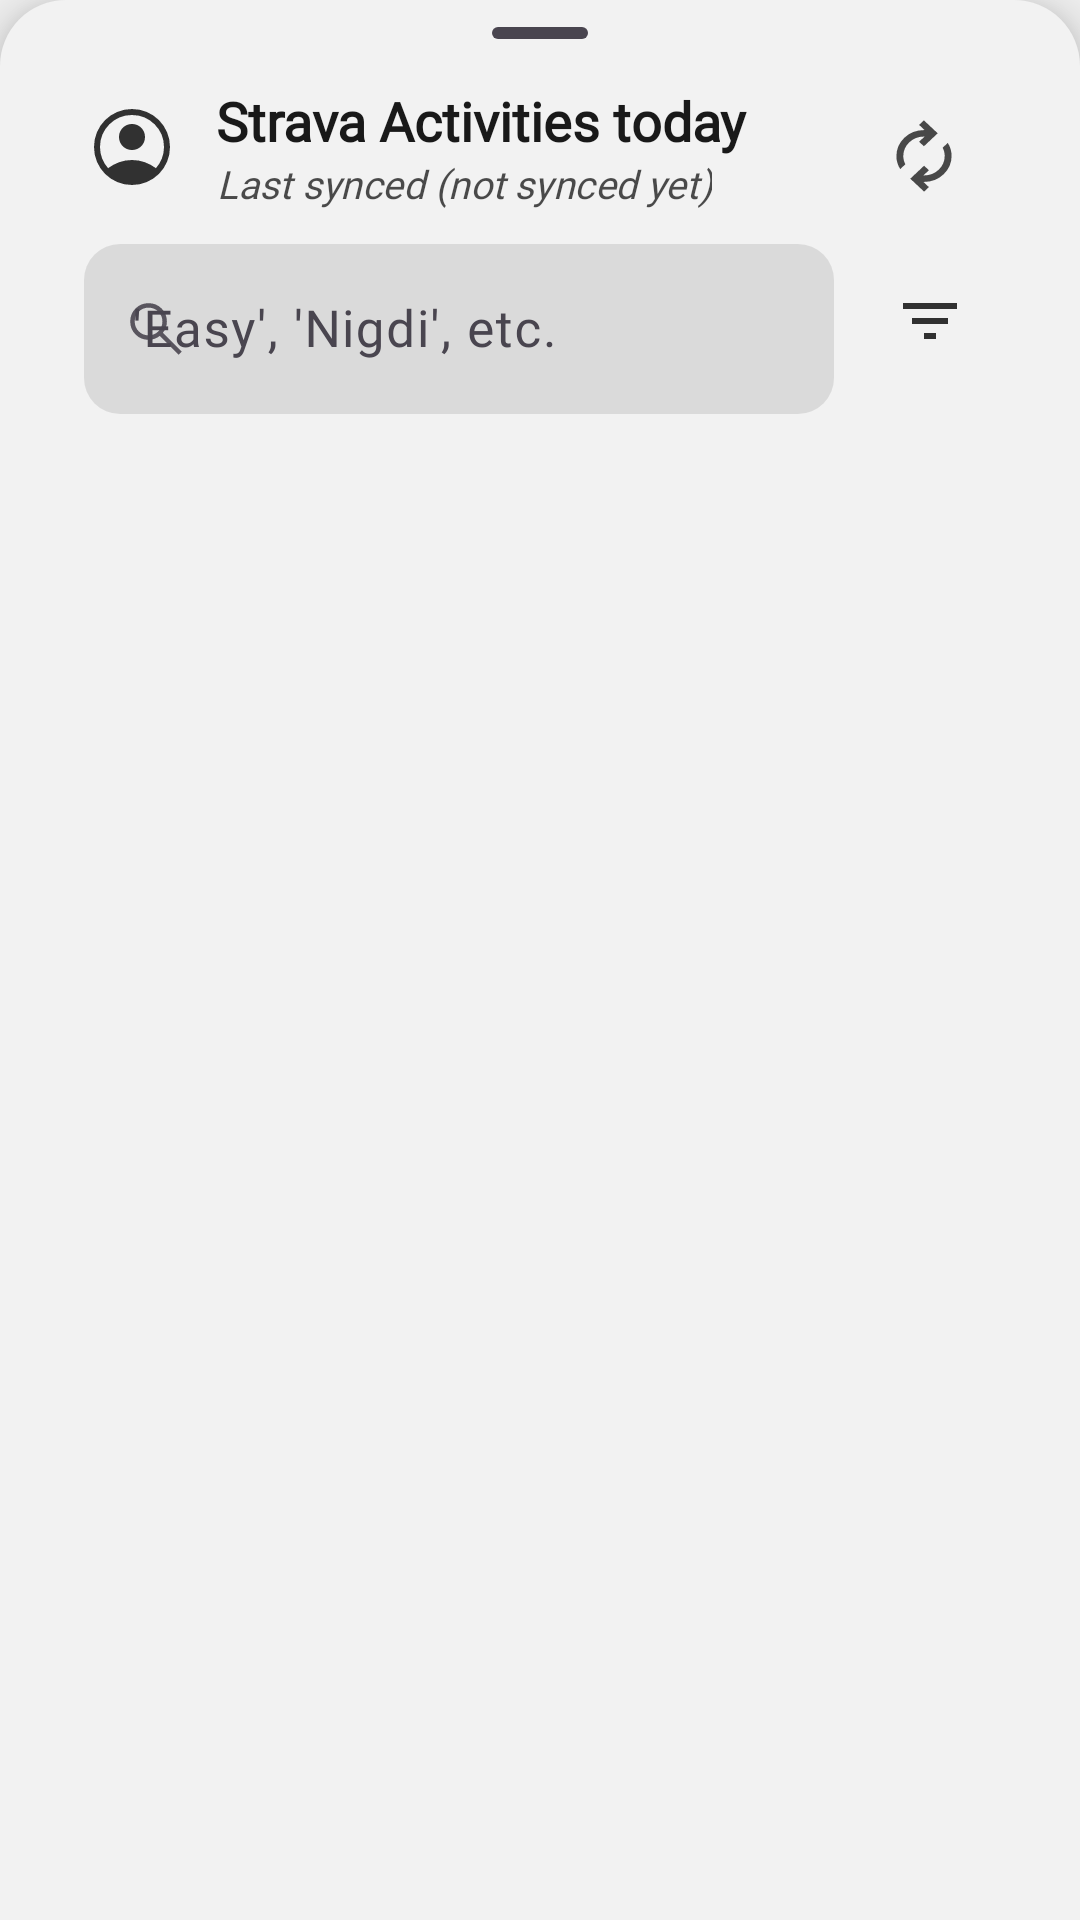

Screen size 1080 × 1920. Icon name, then its box in pixels as [x1=x1, y1=y1, x2=x2, y2=y2]:
autorenew: [x1=896, y1=120, x2=952, y2=192]
filter list: [x1=903, y1=303, x2=957, y2=339]
Open Strava Profile: [x1=94, y1=109, x2=170, y2=185]
